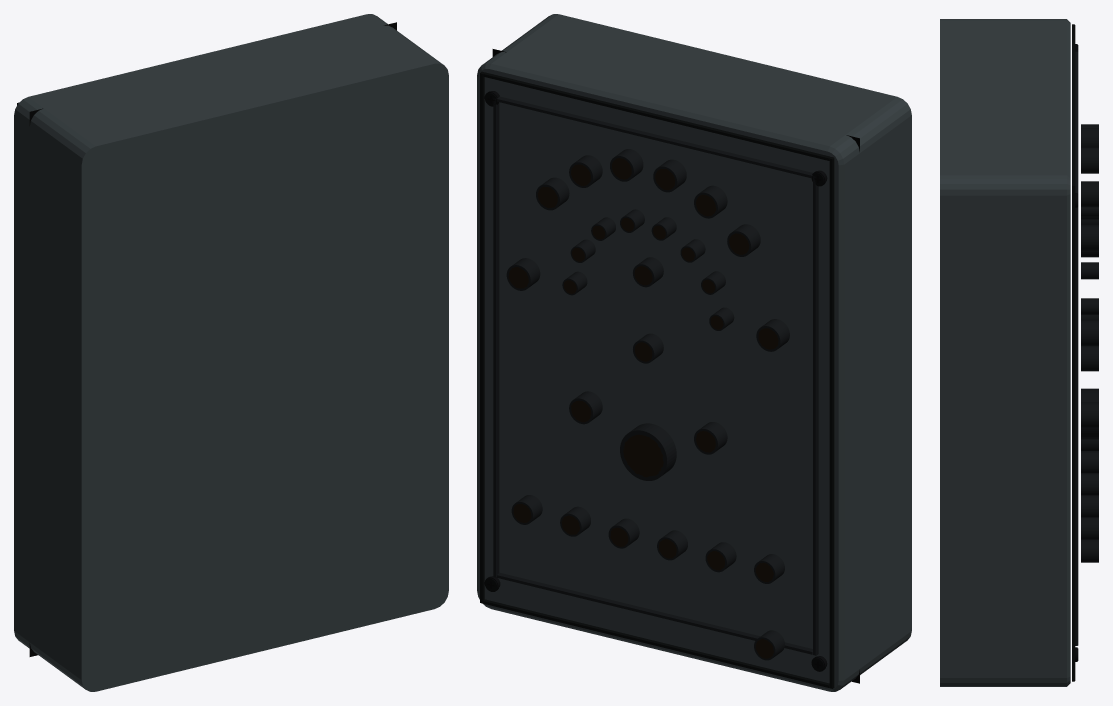
Rendered from MFDStudio.obj.
3 renders of one model, left to right at view 1: azimuth 30°, elevation 25°; view 2: azimuth 150°, elevation 25°; view 3: azimuth 270°, elevation 25°, orthographic. The views are drawn at different scales.
Visible parts, largest first — view 1: MFDStudioBody; view 2: MFDStudioBody, MFDStudioRwrLamp18, MFDStudioScrews; view 3: MFDStudioBody.
Boxes of the visible parts, x1,y1,x2,y2 form: MFDStudioBody: (14, 14, 448, 691); MFDStudioBody: (477, 14, 911, 691); MFDStudioRwrLamp18: (623, 434, 663, 477); MFDStudioScrews: (484, 91, 827, 671); MFDStudioBody: (940, 19, 1098, 686).
Bounding box in the file's own units: 0.155 × 0.22 × 0.062.
Materials: 10 (1 with a texture image).
